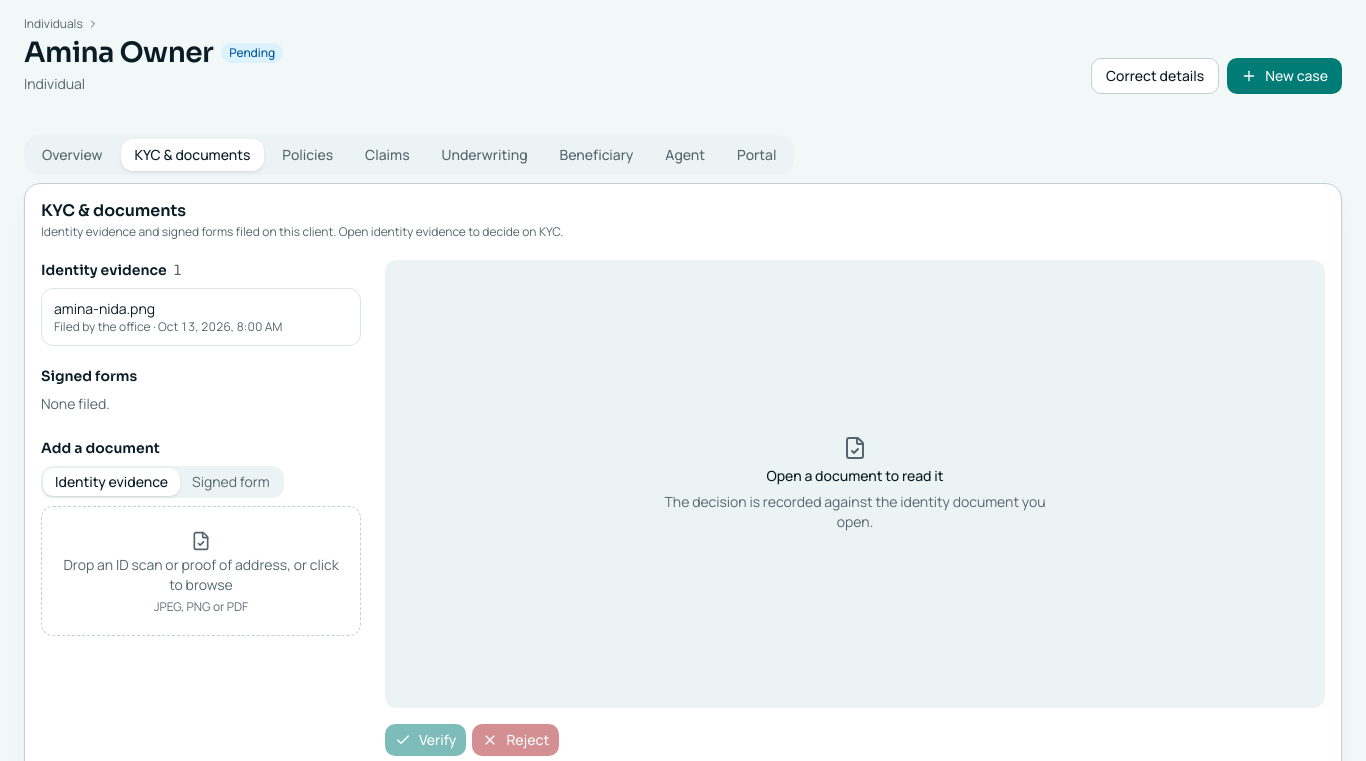
Test: PartyDetailPage › lets staff decide on evidence filed in an earlier session
The image size is (1366, 761).
Expected: the button "Verify" is disabled, [385,724,466,756]
Click the button "amina-nida.png Filed by the office · Oct 13, 2026, 8:00 AM" at (201, 317), box [42,289,360,345]
(page scrolled)
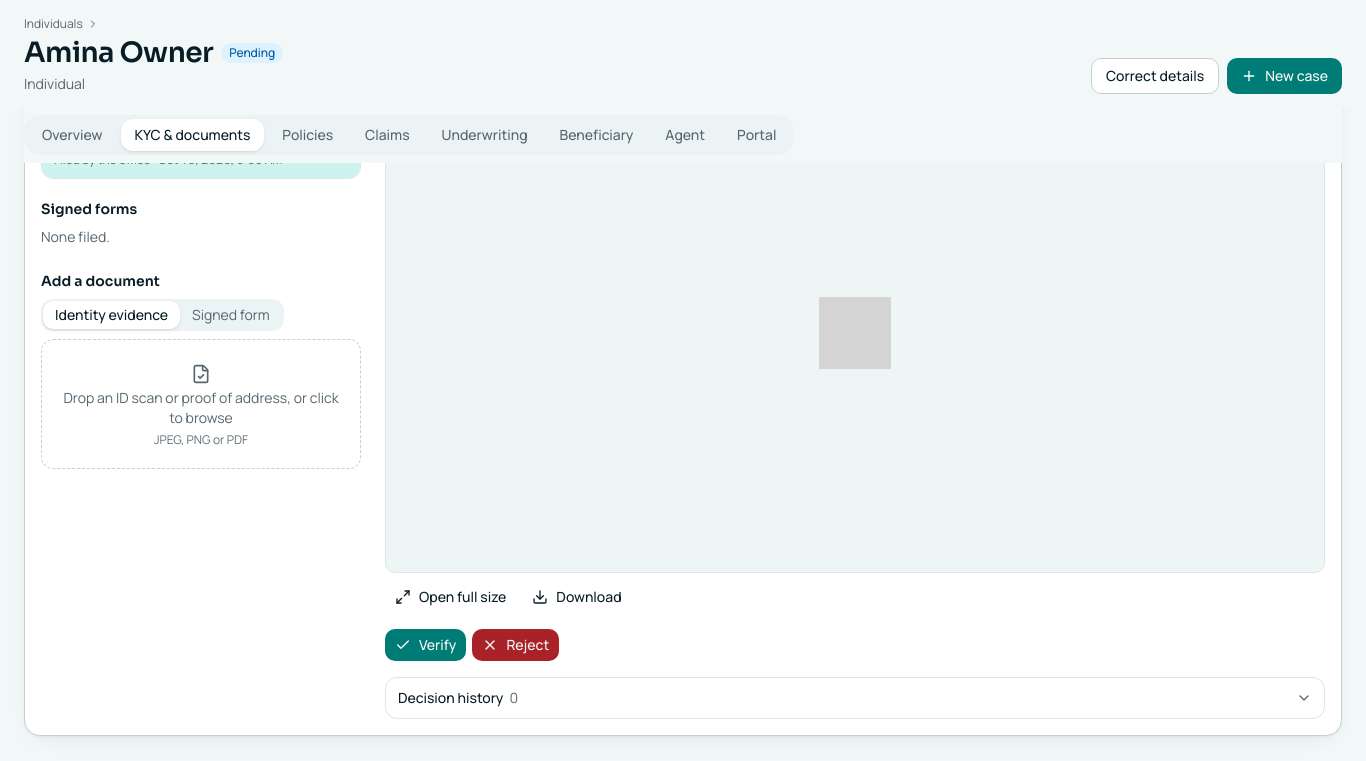
Expected: the button "Verify" is enabled, [385,629,466,661]
Expected: the button "Reject" is enabled, [472,629,559,661]
